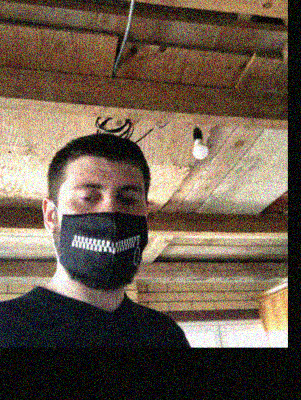with_mask: (59, 174, 147, 282)
